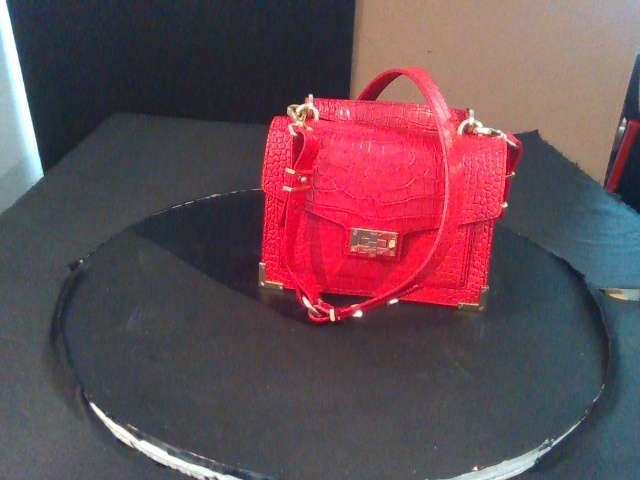bag: (256, 97, 508, 314)
